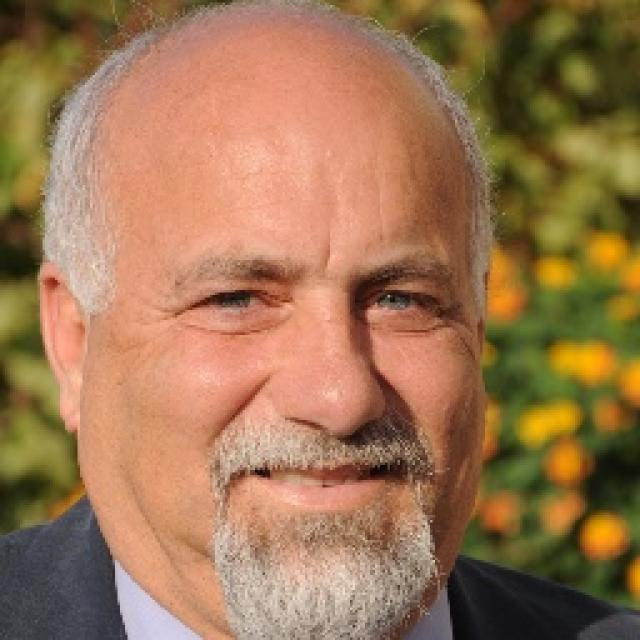earlobe: (56, 373, 80, 435)
eye: (192, 288, 279, 316), (368, 288, 430, 318)
nose: (278, 418, 384, 452)
wholeear: (36, 262, 81, 436)
